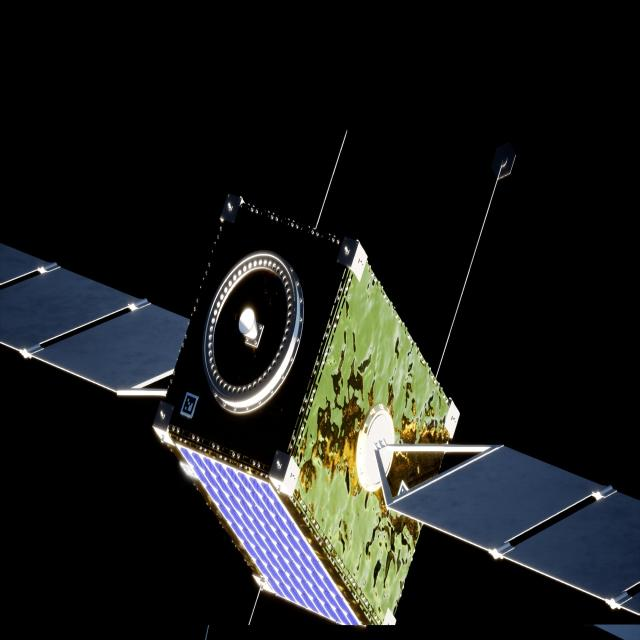satellite: (0, 193, 640, 630)
